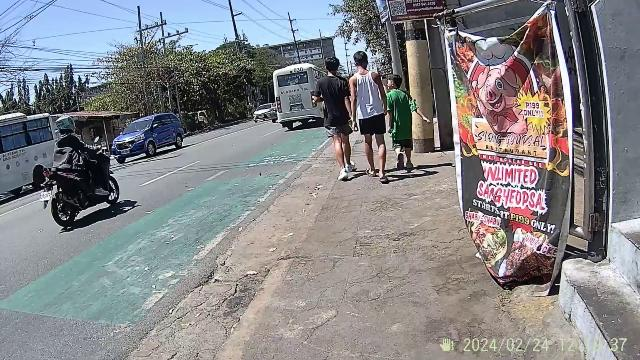street_vendor_cart: (442, 0, 636, 300)
